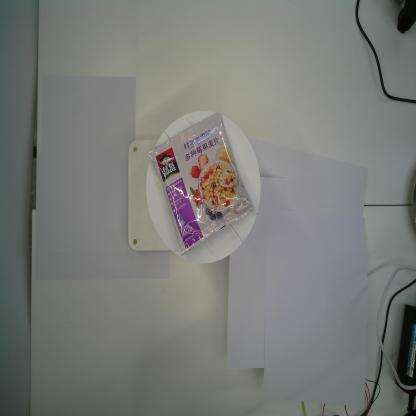Instant Drink: (148, 112, 253, 256)
